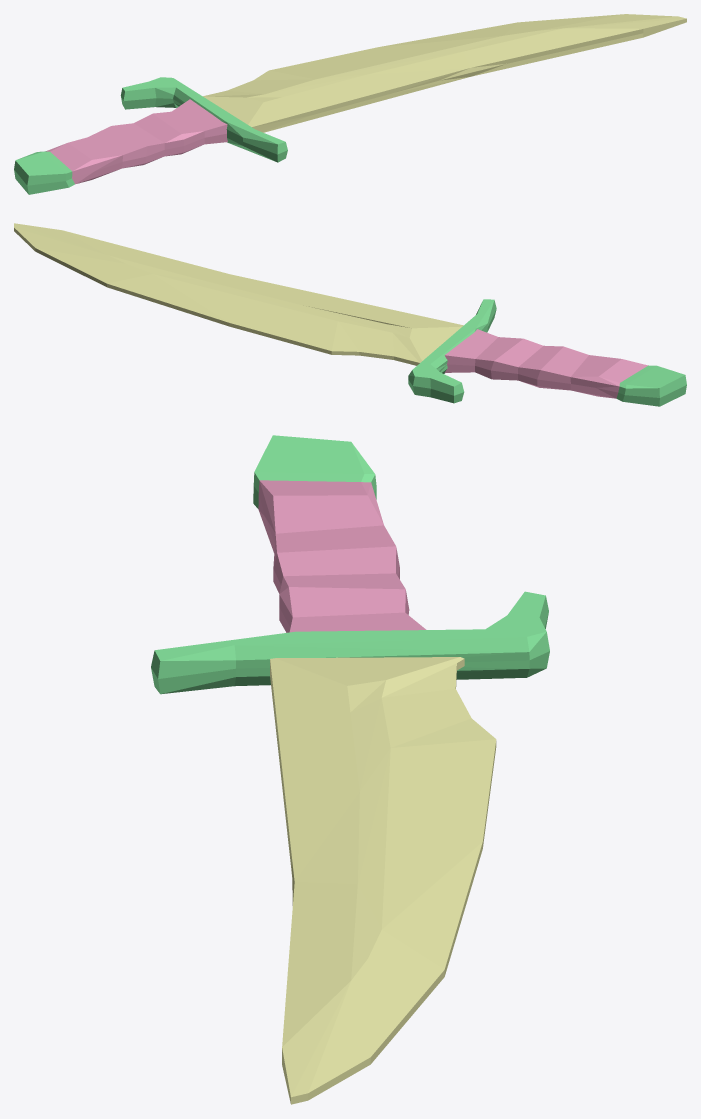
The model's file is dagger.gltf.
3 views of the same model, one above another, from view 1: azimuth 30°, elevation 25°; view 2: azimuth 150°, elevation 25°; view 3: azimuth 270°, elevation 25° (orthographic). The views are drawn at different scales.
Parts seen in each view (by area): view 1: Dagger; view 2: Dagger; view 3: Dagger.
Boxes of the visible parts, x1=… form: Dagger: x1=14, y1=14, x2=686, y2=194; Dagger: x1=14, y1=223, x2=686, y2=406; Dagger: x1=151, y1=435, x2=549, y2=1104.
Bounding box in the file's own units: 1.46 × 0.043 × 0.3798.
